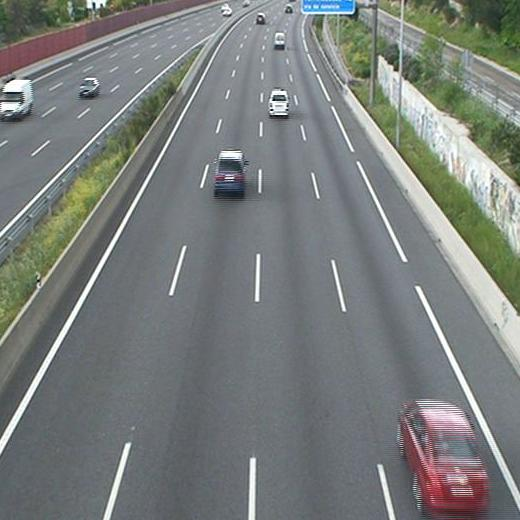car: (398, 399, 489, 516), (213, 151, 247, 199), (267, 88, 290, 119), (274, 32, 286, 49)
